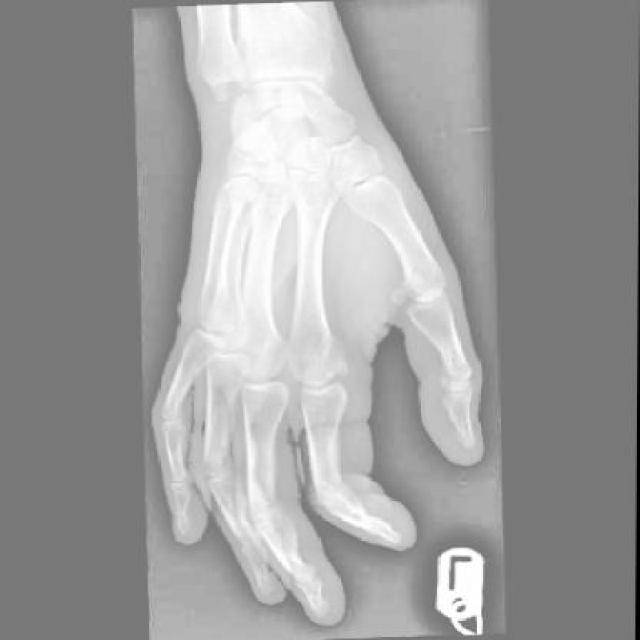bone: (227, 126, 267, 162)
